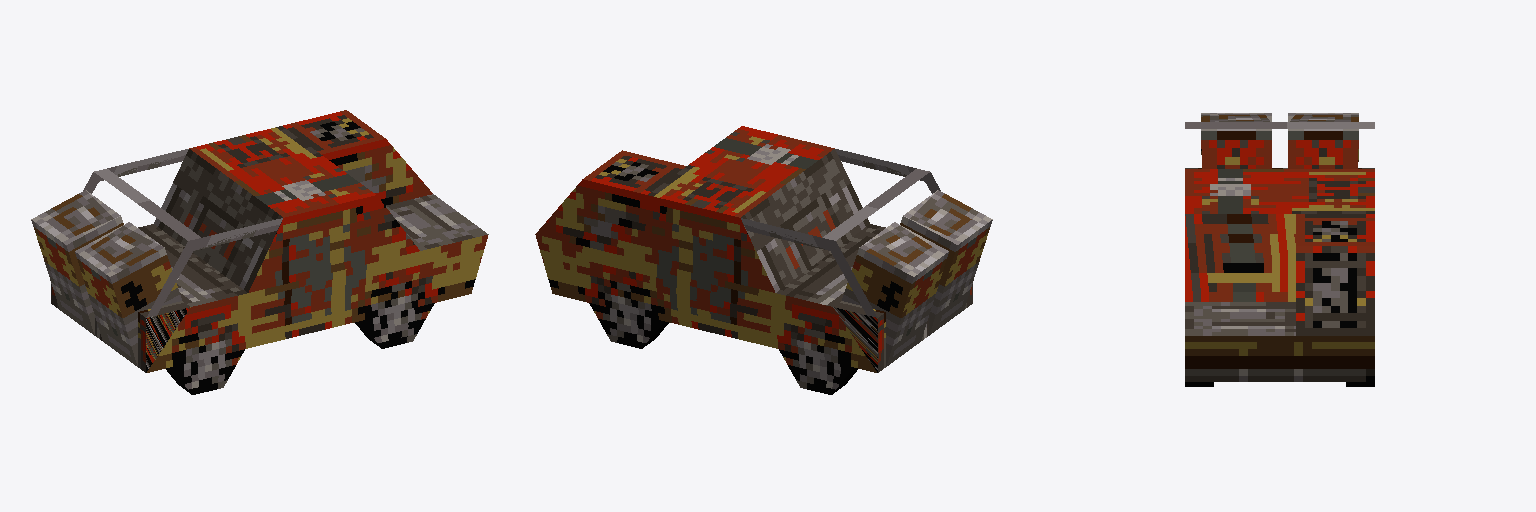
The picture shows the model from 3 angles: view 1: azimuth 30°, elevation 25°; view 2: azimuth 150°, elevation 25°; view 3: azimuth 270°, elevation 25°; orthographic projection.
Bounding box in the file's own units: 4.07 × 1.63 × 1.8.
Materials: 1 (1 with a texture image).